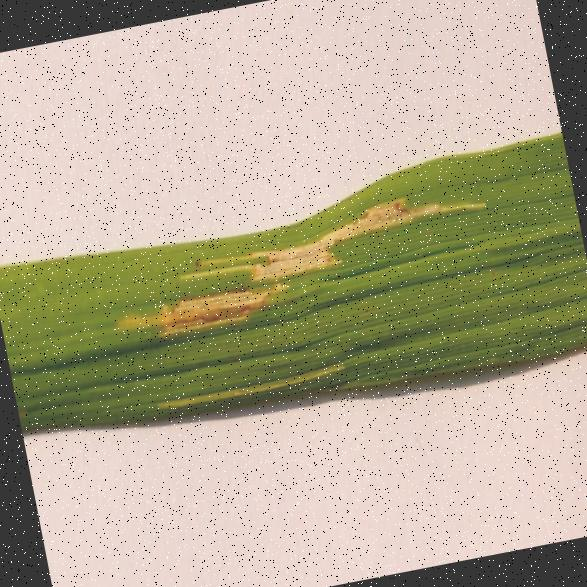Bacteria_Leaf_Blight: (98, 181, 518, 364)
